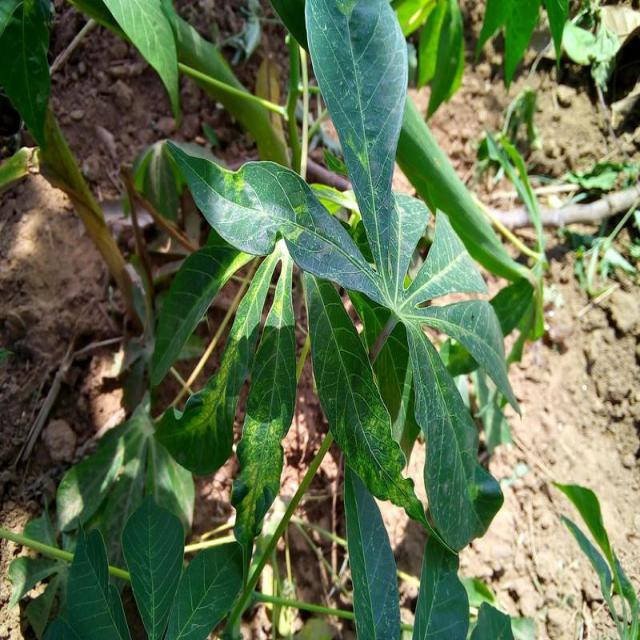cassava leaf: (305, 0, 411, 291)
